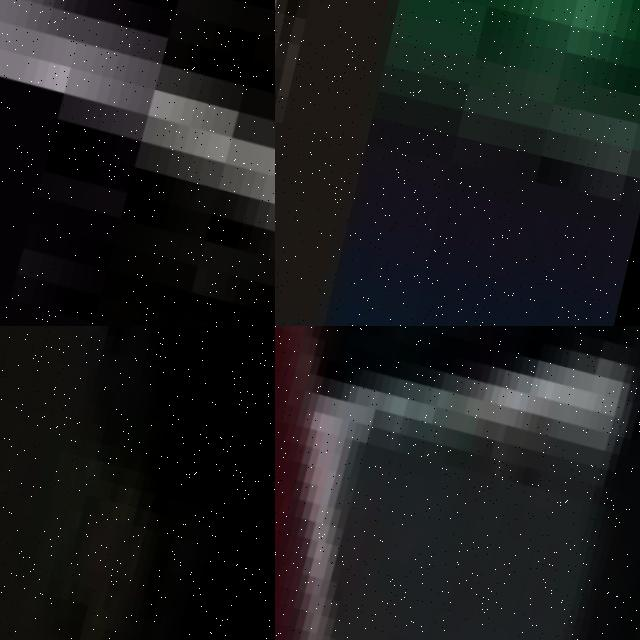0: (0, 0, 275, 326)
drone: (275, 326, 640, 640), (0, 326, 275, 640)
